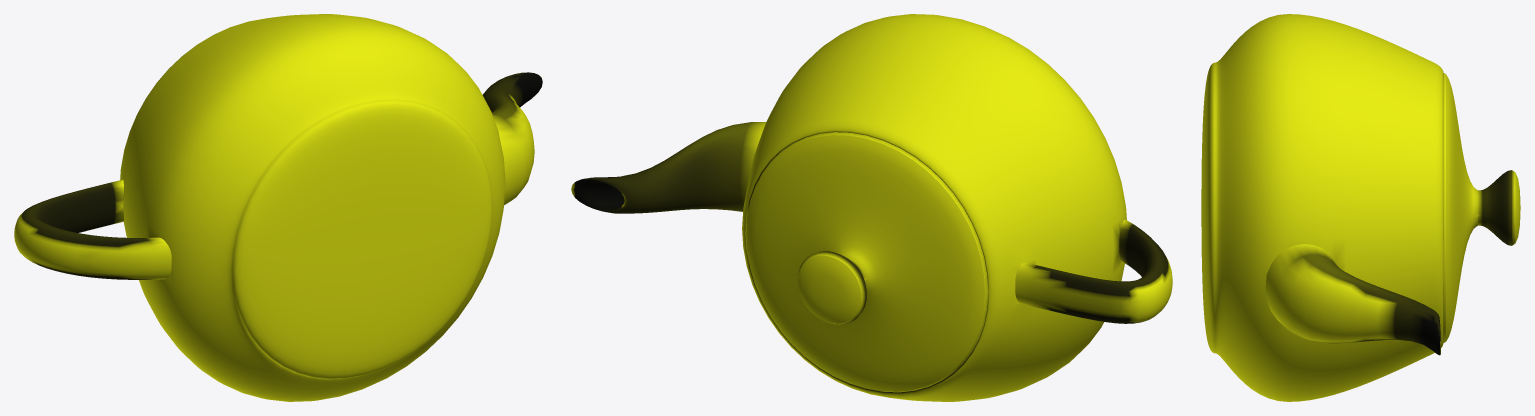
Rendered from teapot.fbx.
The picture shows the model from 3 angles, left to right: view 1: azimuth 30°, elevation 25°; view 2: azimuth 150°, elevation 25°; view 3: azimuth 270°, elevation 25°; orthographic projection. The views are drawn at different scales.
Parts seen in each view (by area): view 1: teapot; view 2: teapot; view 3: teapot.
Part boxes in pixels (left/top/right/bottom): teapot: left=14, top=14, right=542, bottom=401; teapot: left=571, top=14, right=1172, bottom=401; teapot: left=1201, top=14, right=1520, bottom=401.
Bounding box in the file's own units: 300 × 187 × 154.
